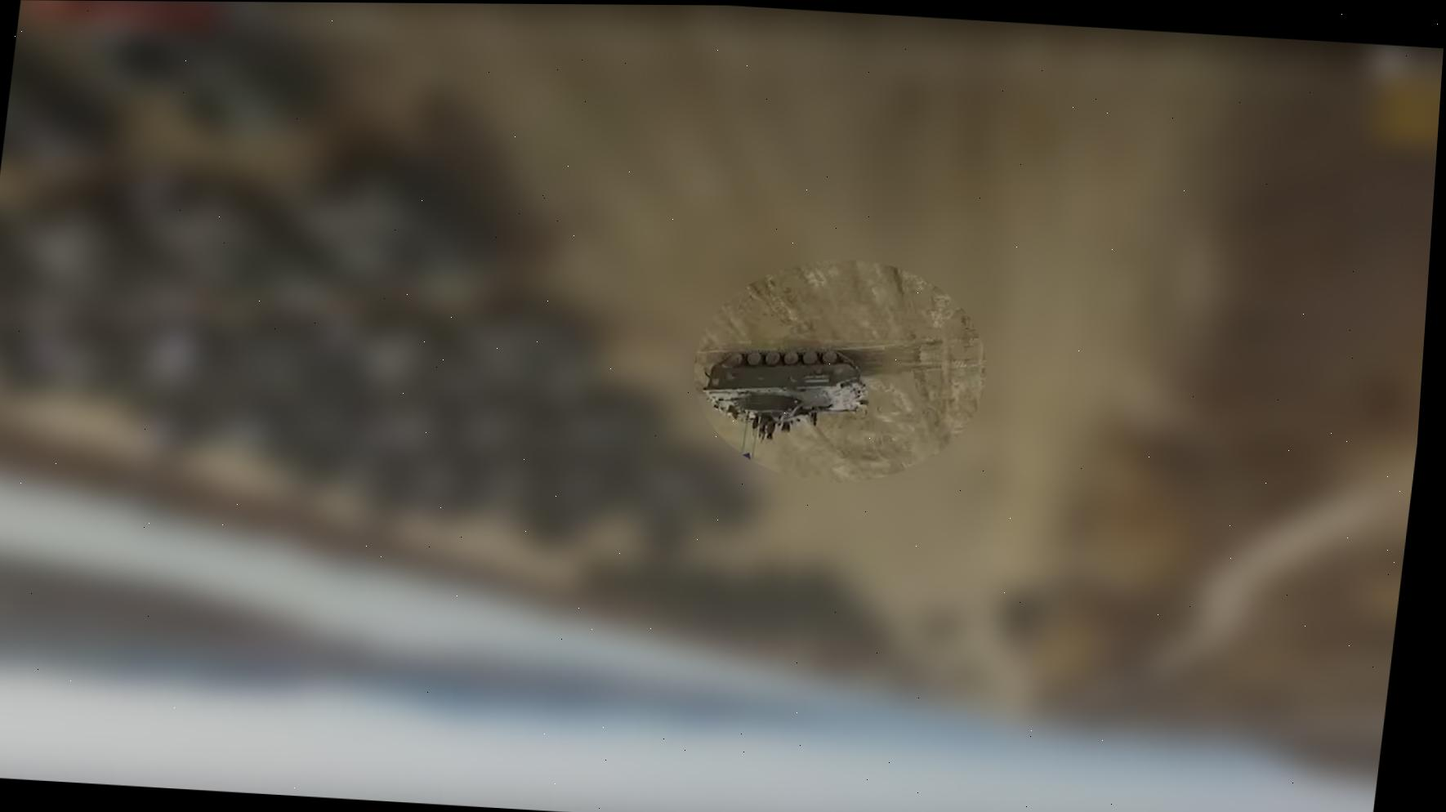armored_car: (689, 344, 879, 445)
